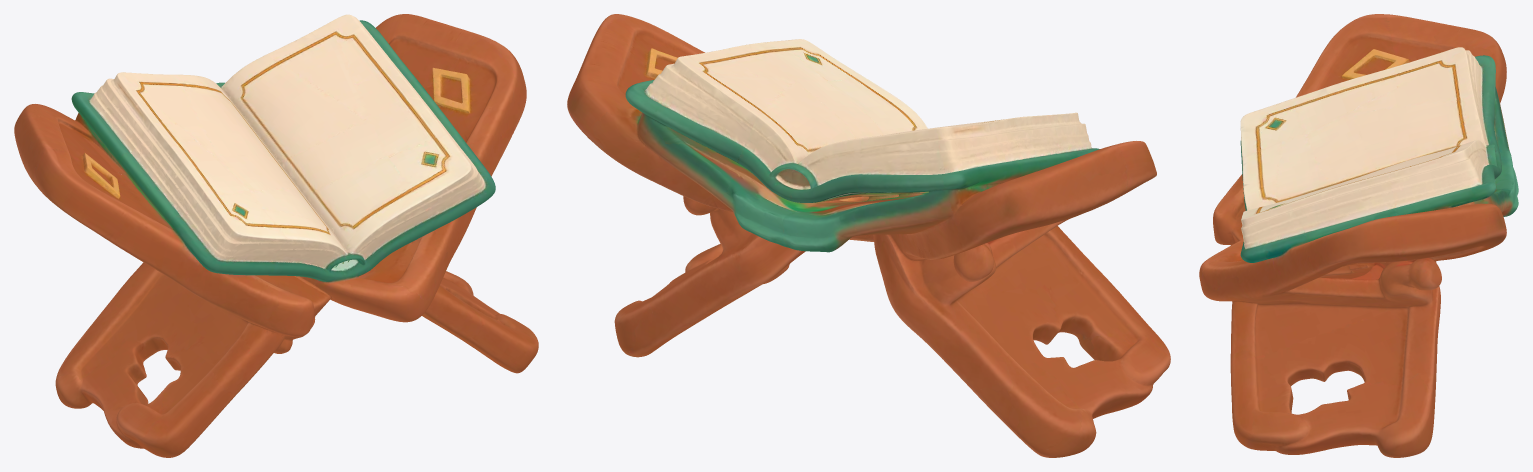
Rendered from rehal-quran-variant-06-open-teal-cover.glb.
3 views of the same model, side by side, from view 1: azimuth 30°, elevation 25°; view 2: azimuth 150°, elevation 25°; view 3: azimuth 270°, elevation 25° (orthographic). The views are drawn at different scales.
Parts seen in each view (by area): view 1: mesh_node; view 2: mesh_node; view 3: mesh_node.
Part boxes in pixels (x1,y1,x2,y2): mesh_node: (14,14,538,457); mesh_node: (567,14,1170,457); mesh_node: (1199,14,1518,457).
Bounding box in the file's own units: 1.9 × 1.1 × 1.17.
1 material, 1 textured.
